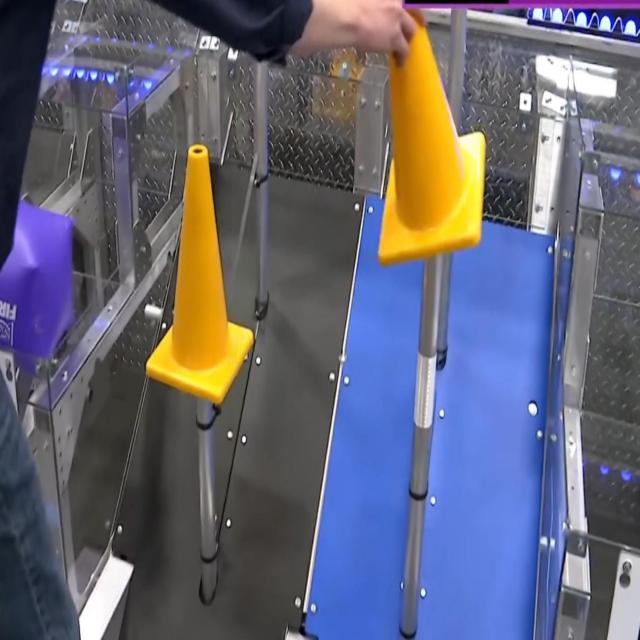frc_cone: (376, 5, 499, 264), (143, 144, 252, 403)
frc_cube: (0, 193, 78, 373)
